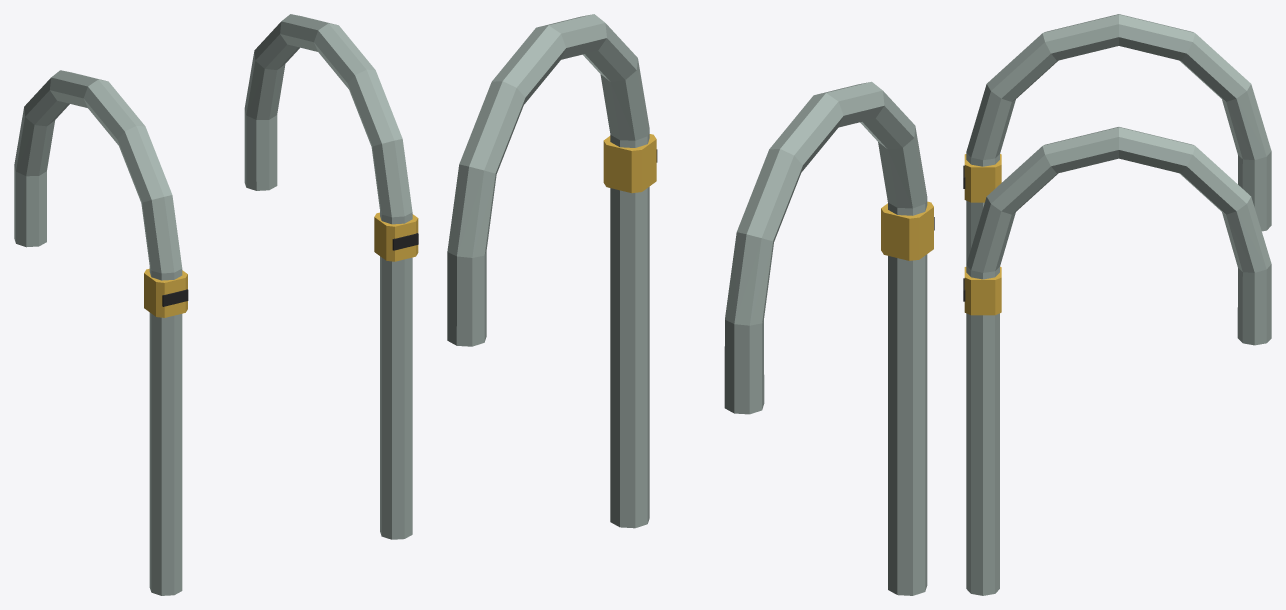
File: ladder_top.glb
3 renders of one model, left to right at view 1: azimuth 30°, elevation 25°; view 2: azimuth 150°, elevation 25°; view 3: azimuth 270°, elevation 25°, orthographic. The views are drawn at different scales.
Parts seen in each view (by area): view 1: Keep_Mesh; view 2: Keep_Mesh; view 3: Keep_Mesh.
Boxes of the visible parts, x1=… form: Keep_Mesh: x1=14, y1=14, x2=418, y2=595; Keep_Mesh: x1=447, y1=14, x2=934, y2=595; Keep_Mesh: x1=963, y1=14, x2=1271, y2=595.
Size of the model in its own units: 0.626 by 1.05 by 0.636.
